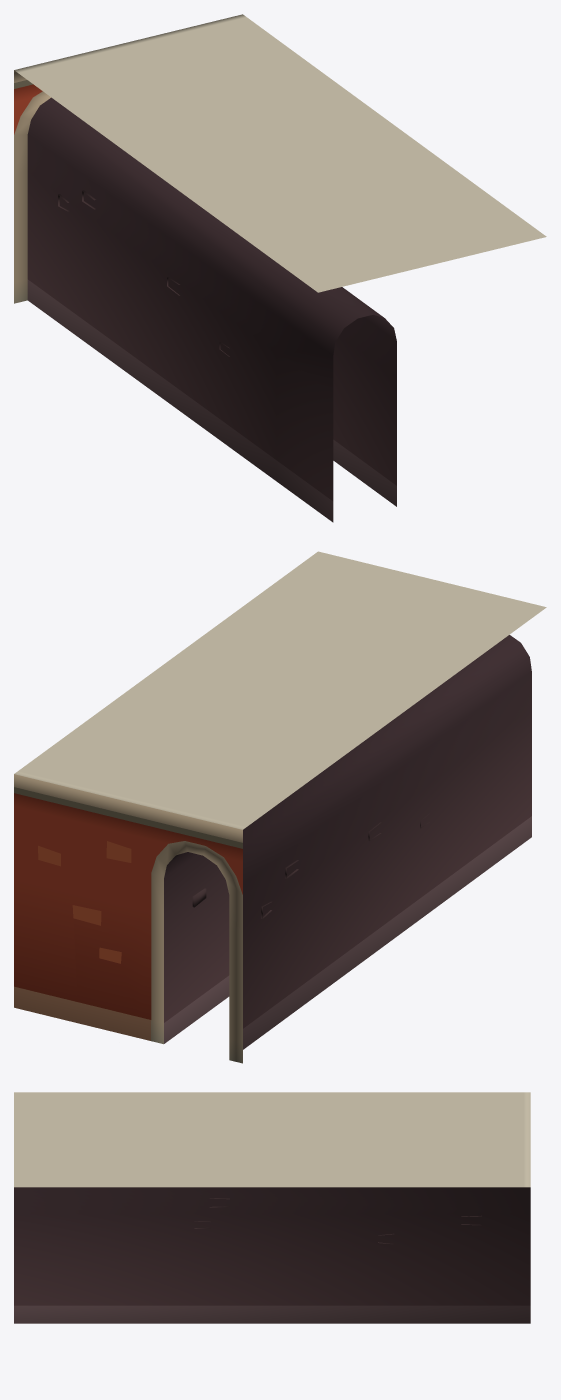
Rendered from CityArch_Right.fbx.
The picture shows the model from 3 angles, top to bottom: view 1: azimuth 30°, elevation 25°; view 2: azimuth 150°, elevation 25°; view 3: azimuth 270°, elevation 25°; orthographic projection. The views are drawn at different scales.
Parts seen in each view (by area): view 1: CityArch_Right; view 2: CityArch_Right; view 3: CityArch_Right.
Boxes of the visible parts, x1,y1,x2,y2 form: CityArch_Right: (14, 14, 546, 522); CityArch_Right: (14, 551, 546, 1063); CityArch_Right: (14, 1092, 530, 1323).
Size of the model in its own units: 421 by 411 by 1000.
